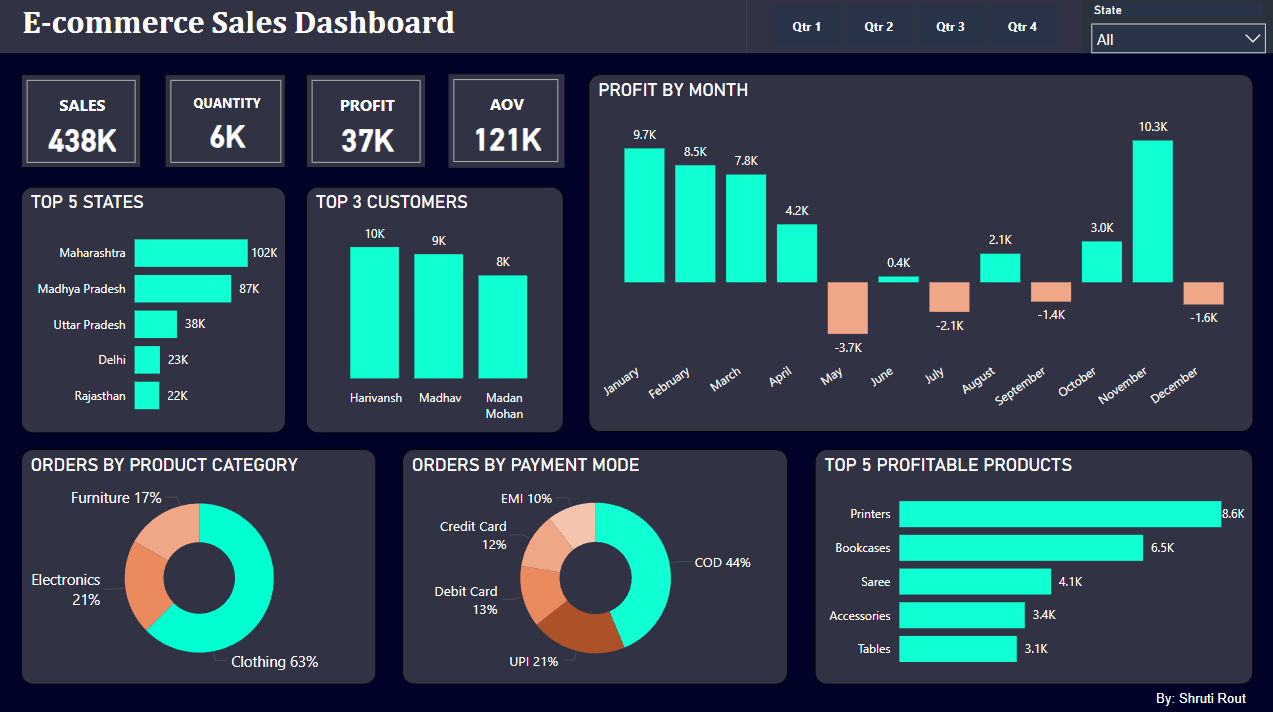

Layout of this report page (visuals, bound fields, positions):
{"tool":"powerbi","page":{"name":"Key Analysis","canvas":[1280,720],"ordinal":0},"visuals":[{"type":"textbox","box":[9.7,16.9,740.8,55.5],"z":0},{"type":"cardVisual","fields":{"Data":["Sum(Details.Sales)"]},"box":[10,82.7,143.6,102.7],"z":1000},{"type":"cardVisual","fields":{"Data":["Sum(Details.Quantity)"]},"box":[158,82,147,103],"z":2000},{"type":"cardVisual","fields":{"Data":["Sum(Details.Profit)"]},"box":[310,82.1,148.6,102.9],"z":3000},{"type":"cardVisual","fields":{"Data":["Sum(Details.AOV)"]},"box":[463.6,82.1,140,102.9],"z":4000},{"type":"slicer","fields":{"Values":["Orders.State"]},"box":[1085.8,16.9,184.6,55.5],"z":5000},{"type":"slicer","fields":{"Values":["Orders.Order Date.Variation.Date Hierarchy.Quarter"]},"box":[750.4,16.9,335.4,55.5],"z":6000},{"type":"barChart","title":"TOP 5 STATES","fields":{"Category":["Orders.State"],"Y":["Sum(Details.Sales)"]},"box":[9.7,191.8,287.1,259.4],"z":7000},{"type":"barChart","title":"TOP 5 PROFITABLE PRODUCTS","fields":{"Category":["Details.Sub-Category"],"Y":["Sum(Details.Profit)"]},"box":[818,468.1,452.4,236.5],"z":8000},{"type":"donutChart","title":"ORDERS BY PRODUCT CATEGORY","fields":{"Category":["Details.Category"],"Y":["Sum(Details.Quantity)"]},"box":[9.7,468.1,383.6,236.5],"z":9000},{"type":"donutChart","title":"ORDERS BY PAYMENT MODE","fields":{"Category":["Details.PaymentMode"],"Y":["Sum(Details.Quantity)"]},"box":[406.6,468.1,396.9,236.5],"z":10000},{"type":"columnChart","title":"PROFIT BY MONTH","fields":{"Y":["Sum(Details.Profit)"],"Category":["Orders.Order Date.Variation.Date Hierarchy.Month"]},"box":[617.7,83.2,652.7,368],"z":12000},{"type":"columnChart","title":"TOP 3 CUSTOMERS","fields":{"Y":["Sum(Details.Sales)"],"Category":["Orders.Customer Name"]},"box":[310.1,191.8,293.2,259.4],"z":13000}]}

Visuals, with their boxes in screenshot pixels (x1, y1, x2, y2), scaled from the page's 1280x720 canvas onto the 1273x712 screenshot:
textbox: Rect(10, 17, 746, 72)
cardVisual - Sum(Details.Sales): Rect(10, 82, 153, 183)
cardVisual - Sum(Details.Quantity): Rect(157, 81, 303, 183)
cardVisual - Sum(Details.Profit): Rect(308, 81, 456, 183)
cardVisual - Sum(Details.AOV): Rect(461, 81, 600, 183)
slicer - Orders.State: Rect(1080, 17, 1263, 72)
slicer - Orders.Order Date.Variation.Date Hierarchy.Quarter: Rect(746, 17, 1080, 72)
"TOP 5 STATES" barChart: Rect(10, 190, 295, 446)
"TOP 5 PROFITABLE PRODUCTS" barChart: Rect(814, 463, 1263, 697)
"ORDERS BY PRODUCT CATEGORY" donutChart: Rect(10, 463, 391, 697)
"ORDERS BY PAYMENT MODE" donutChart: Rect(404, 463, 799, 697)
"PROFIT BY MONTH" columnChart: Rect(614, 82, 1263, 446)
"TOP 3 CUSTOMERS" columnChart: Rect(308, 190, 600, 446)
